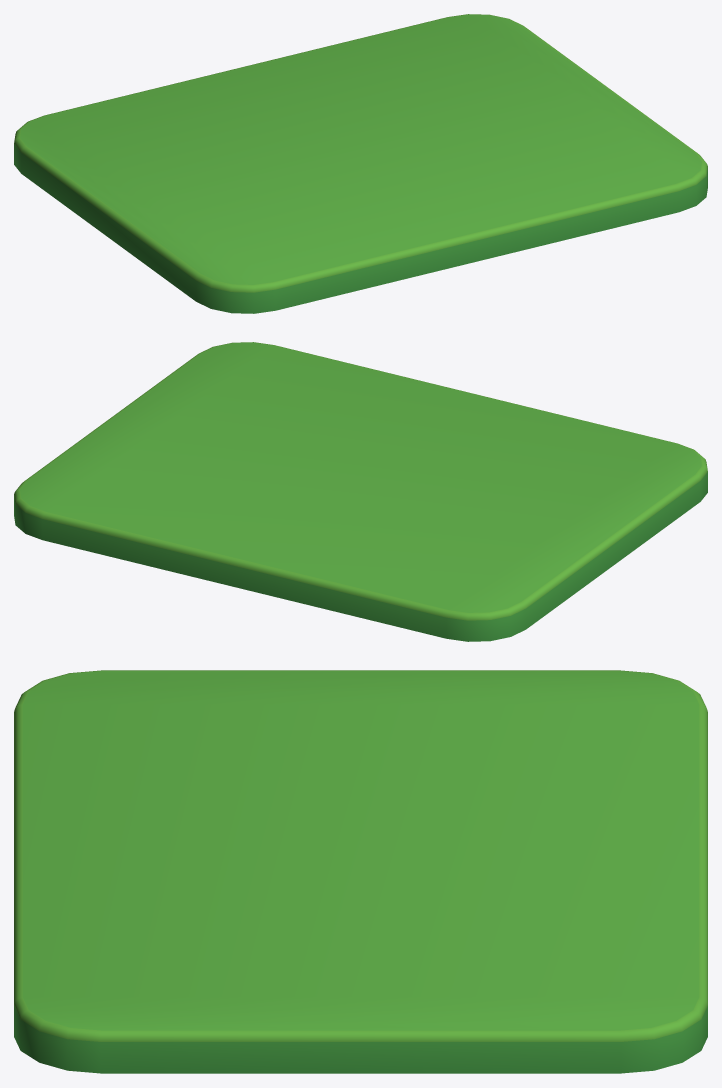
Rendered from floor_base.fbx.
3 renders of one model, top to bottom at view 1: azimuth 30°, elevation 25°; view 2: azimuth 150°, elevation 25°; view 3: azimuth 270°, elevation 25°, orthographic. The views are drawn at different scales.
Parts seen in each view (by area): view 1: floor_base; view 2: floor_base; view 3: floor_base.
Boxes of the visible parts, <box> form: floor_base: <box>14,14,707,313</box>; floor_base: <box>14,342,707,641</box>; floor_base: <box>14,670,707,1073</box>.
Bounding box in the file's own units: 1000 × 50 × 800.
